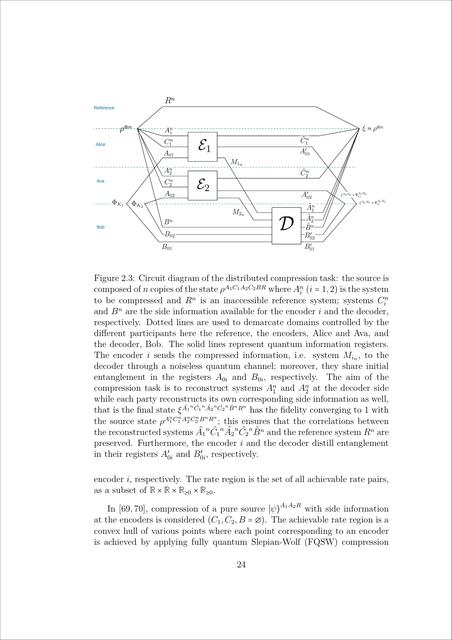box: (92, 95, 388, 257)
